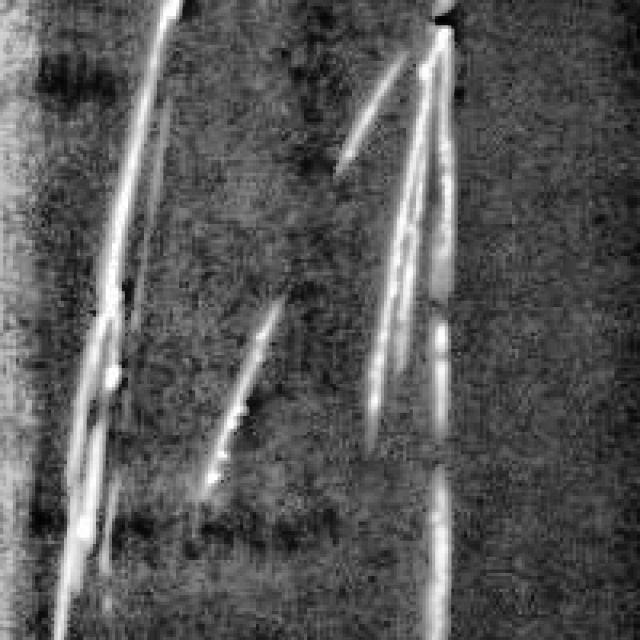Inclusion: (38, 0, 185, 634), (326, 16, 454, 458), (192, 291, 285, 499), (403, 464, 458, 634)
